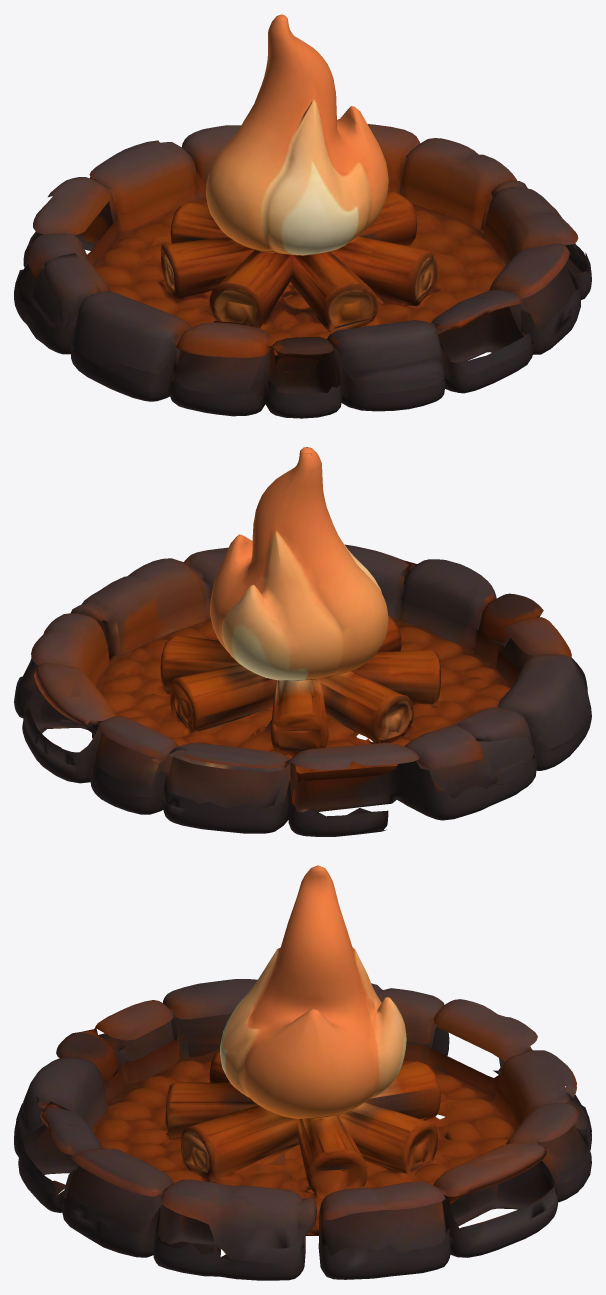
The model's file is Outdoor__a_campfire_pit_d78c4a95_v4.cluster.glb.
3 renders of one model, top to bottom at view 1: azimuth 30°, elevation 25°; view 2: azimuth 150°, elevation 25°; view 3: azimuth 270°, elevation 25°, orthographic. The views are drawn at different scales.
Parts seen in each view (by area): view 1: material; view 2: material; view 3: material.
Part boxes in pixels (x1,y1,x2,y2): material: (14,14,591,418); material: (14,447,591,836); material: (14,865,591,1280).
Size of the model in its own units: 1.9 by 1.05 by 1.9.
Materials: 1 (1 with a texture image).
